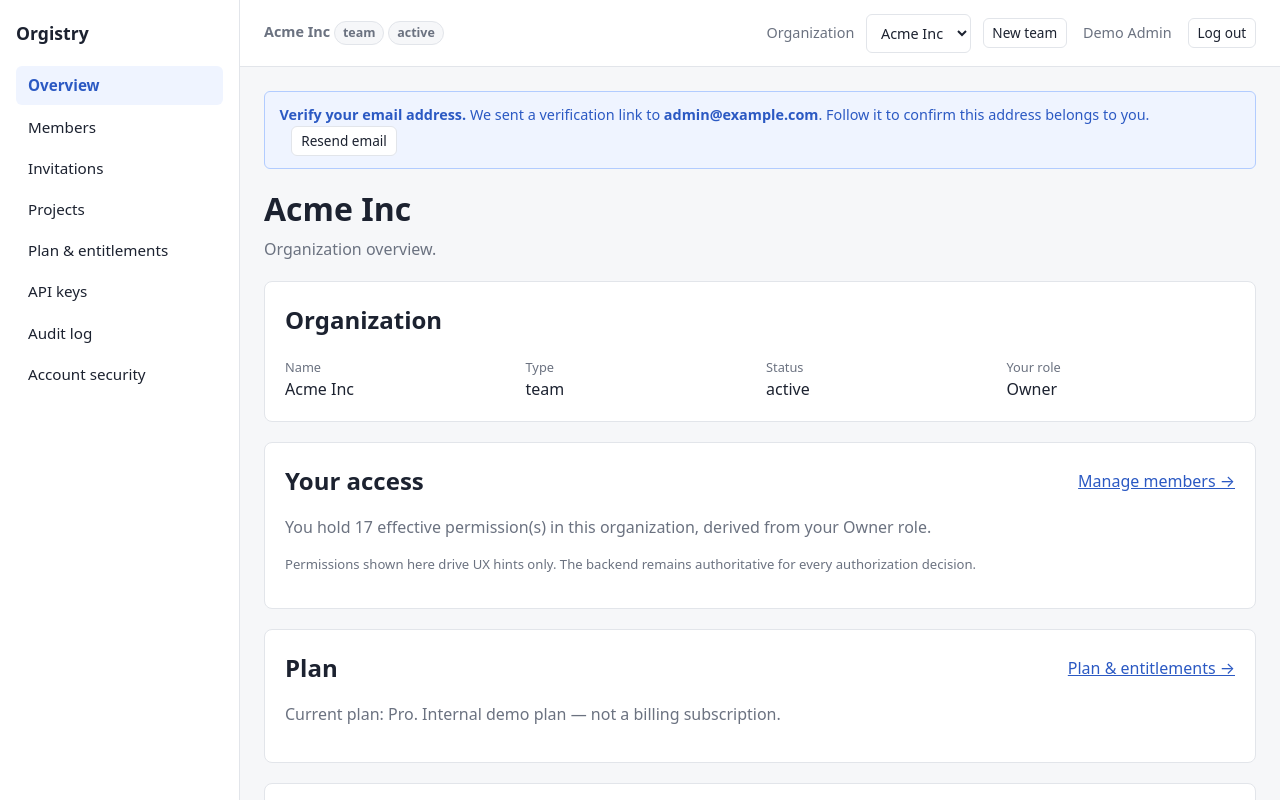
it: unverified-email banner › shows a generic failure message on other errors
Click the button "Resend email".
click(344, 141)  # box left=291, top=126, right=397, bottom=156
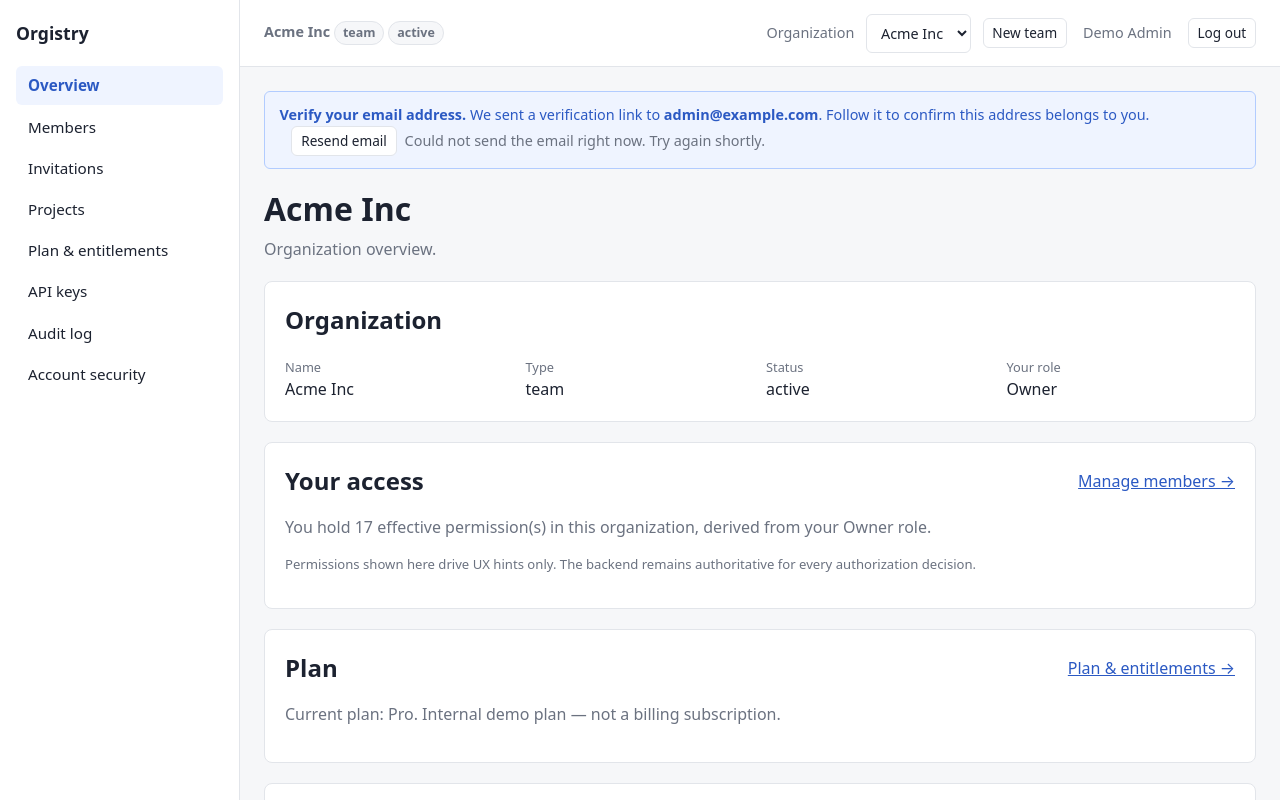
Expected: the text "Could not send the email right now. Try again shortly." is shown, left=405, top=131, right=765, bottom=150
